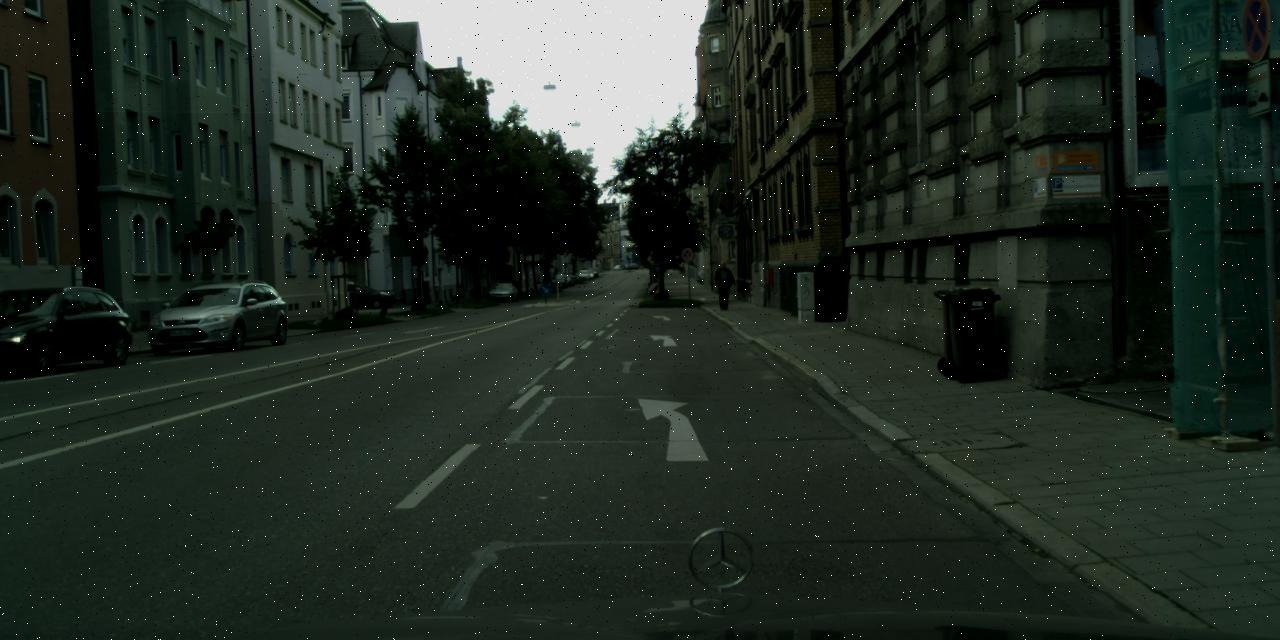ped: (712, 260, 732, 309)
